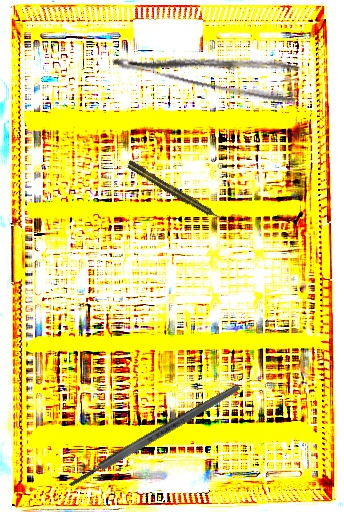Dressing Forceps: (110, 27, 303, 107)
Handpiece: (125, 159, 225, 224)
Scalpel Handle: (66, 382, 243, 490)
